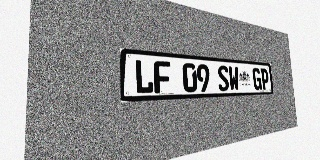0: (182, 63, 197, 92)
9: (196, 64, 210, 92)
F: (154, 61, 171, 93)
G: (252, 68, 262, 90)
L: (134, 59, 154, 94)
P: (260, 68, 269, 90)
S: (217, 65, 229, 91)
W: (228, 66, 240, 91)
